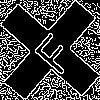F: (25, 25, 79, 78)
